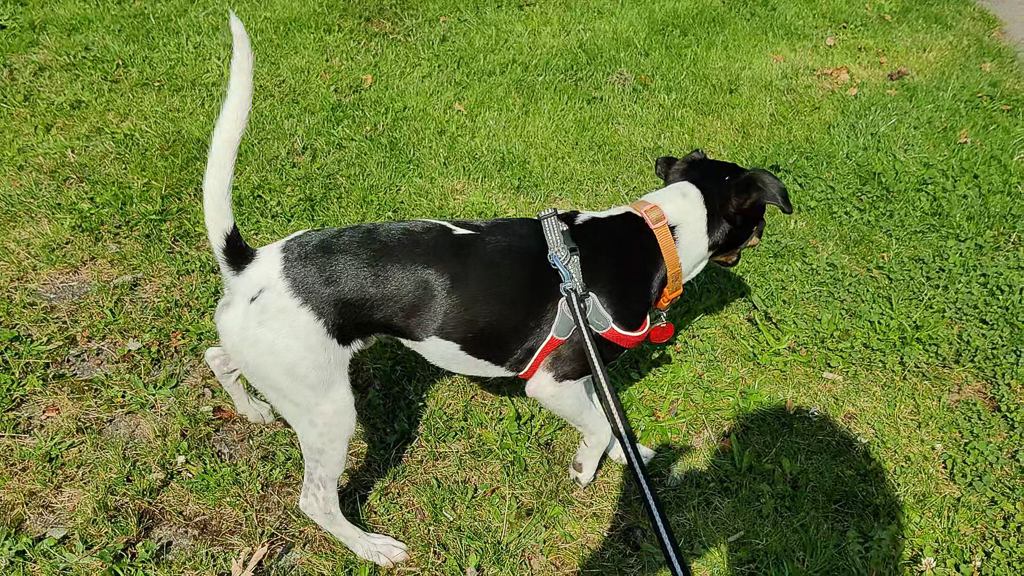Dog: (192, 0, 801, 568)
